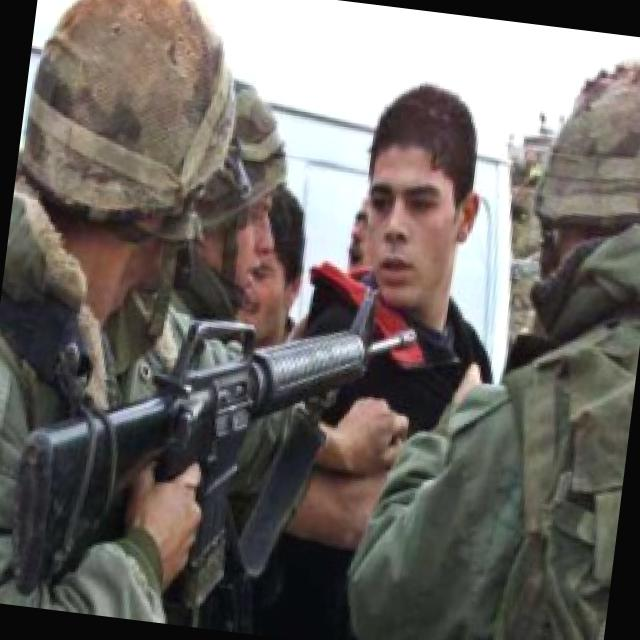long weapon: (0, 263, 425, 594)
